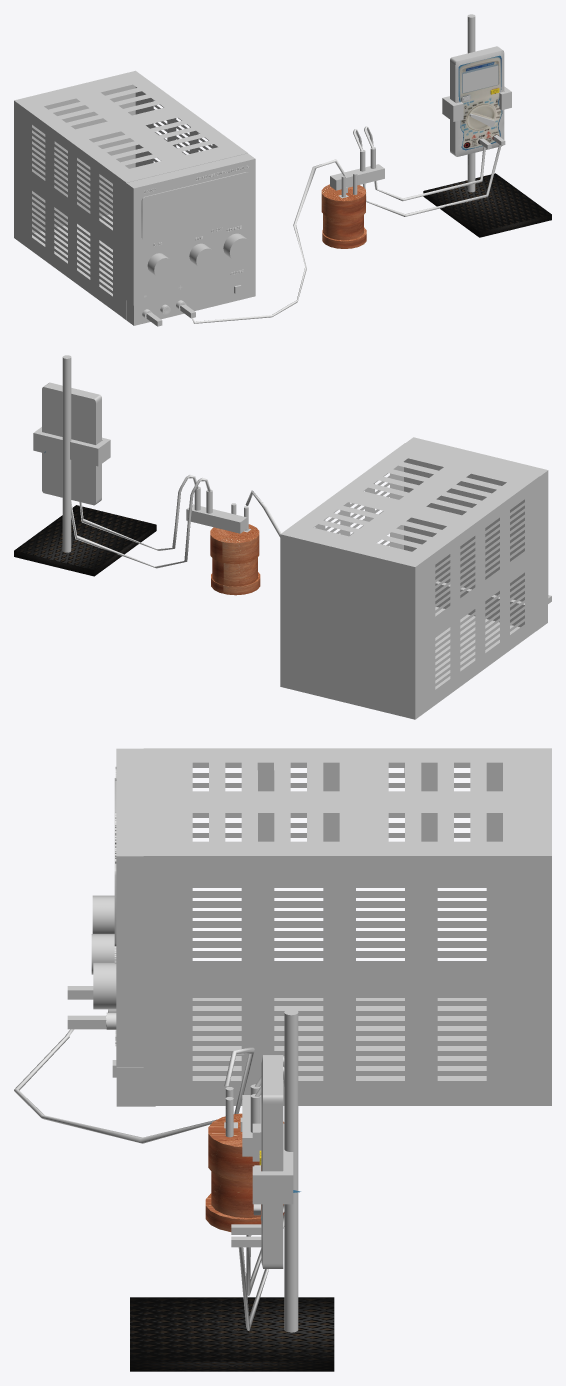
The model's file is installation.fbx.
3 views of the same model, one above another, from view 1: azimuth 30°, elevation 25°; view 2: azimuth 150°, elevation 25°; view 3: azimuth 270°, elevation 25° (orthographic). The views are drawn at different scales.
Parts seen in each view (by area): view 1: Box001, Box002, tablo, Box017, Plane002, Box004, Box013, Cylinder007, Line003, Cylinder006, Box024, tablo_multimetr (+7 smaller); view 2: Box001, Box002, Box017, Box013, Cylinder004, Cylinder007, Box018, Cylinder006, Box024, Box004, Line002, Line001 (+1 smaller); view 3: Box001, Box017, Box002, Cylinder004, Box013, Cylinder007, Line003, Box004, Cylinder006, Cylinder001, Box019, Cylinder002 (+2 smaller).
Part boxes in pixels (x1=…): Box001: x1=14, y1=70, x2=247, y2=319; Box002: x1=125, y1=153, x2=255, y2=305; tablo: x1=141, y1=172, x2=249, y2=240; Box017: x1=423, y1=173, x2=551, y2=237; Plane002: x1=458, y1=55, x2=502, y2=150; Box004: x1=126, y1=276, x2=255, y2=325; Box013: x1=450, y1=46, x2=504, y2=156; Cylinder007: x1=321, y1=184, x2=365, y2=219; Line003: x1=191, y1=159, x2=345, y2=323; Cylinder006: x1=323, y1=214, x2=363, y2=240; Box024: x1=330, y1=164, x2=384, y2=190; tablo_multimetr: x1=463, y1=65, x2=498, y2=92; Box001: x1=280, y1=443, x2=539, y2=719; Box002: x1=404, y1=437, x2=548, y2=606; Box017: x1=14, y1=505, x2=156, y2=576; Box013: x1=42, y1=382, x2=101, y2=505; Cylinder004: x1=62, y1=355, x2=71, y2=552; Cylinder007: x1=210, y1=524, x2=259, y2=564; Box018: x1=33, y1=430, x2=101, y2=466; Cylinder006: x1=212, y1=557, x2=257, y2=586; Box024: x1=186, y1=504, x2=247, y2=533; Box004: x1=435, y1=581, x2=547, y2=630; Line002: x1=71, y1=477, x2=210, y2=568; Line001: x1=79, y1=474, x2=198, y2=550; Box001: x1=143, y1=748, x2=551, y2=1105; Box017: x1=130, y1=1297, x2=334, y2=1371; Box002: x1=116, y1=748, x2=143, y2=1068; Cylinder004: x1=284, y1=1009, x2=298, y2=1332; Box013: x1=261, y1=1055, x2=283, y2=1268; Cylinder007: x1=208, y1=1113, x2=284, y2=1181; Line003: x1=14, y1=1029, x2=254, y2=1143; Box004: x1=116, y1=1067, x2=155, y2=1106; Cylinder006: x1=211, y1=1171, x2=283, y2=1217; Cylinder001: x1=93, y1=962, x2=116, y2=1009; Box019: x1=252, y1=1171, x2=283, y2=1204; Cylinder002: x1=92, y1=895, x2=114, y2=933.
Bounding box in the file's own units: 86.66 × 35.47 × 52.7.
Materials: 4 (4 with a texture image).
